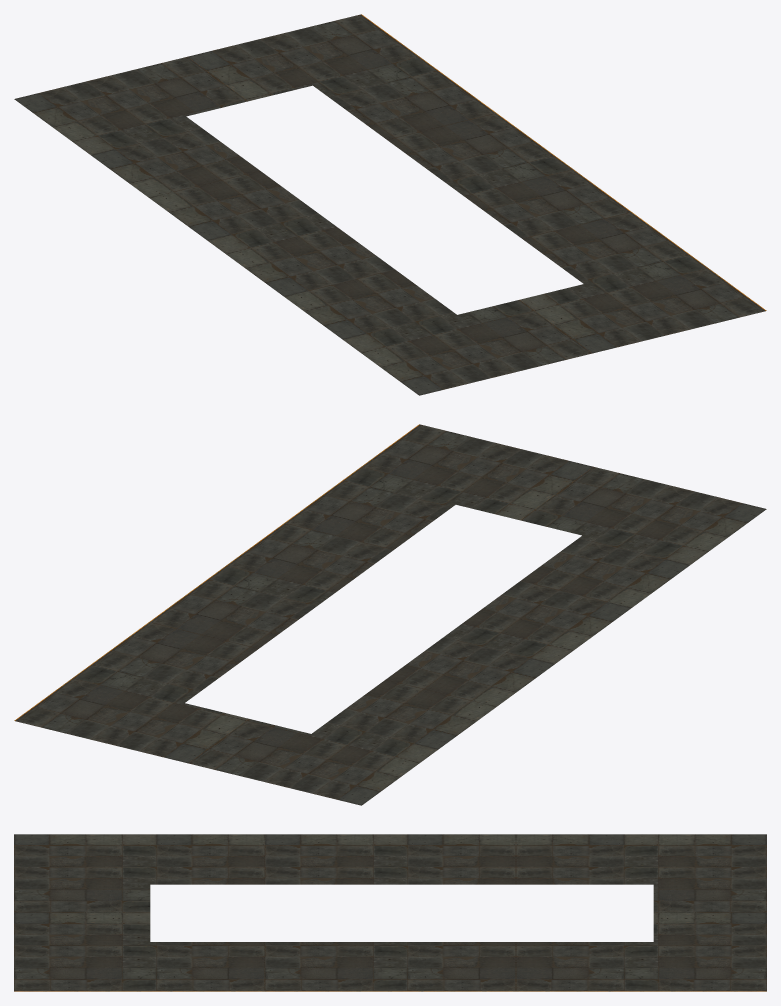
File: RoofMidA.fbx
3 views of the same model, one above another, from view 1: azimuth 30°, elevation 25°; view 2: azimuth 150°, elevation 25°; view 3: azimuth 270°, elevation 25° (orthographic). The views are drawn at different scales.
Parts seen in each view (by area): view 1: RoofMidA; view 2: RoofMidA; view 3: RoofMidA.
Part boxes in pixels (bbox=[...]): RoofMidA: bbox=[14, 14, 766, 395]; RoofMidA: bbox=[14, 424, 766, 805]; RoofMidA: bbox=[14, 834, 766, 991].
Bounding box in the file's own units: 1095 × 0 × 2210.
